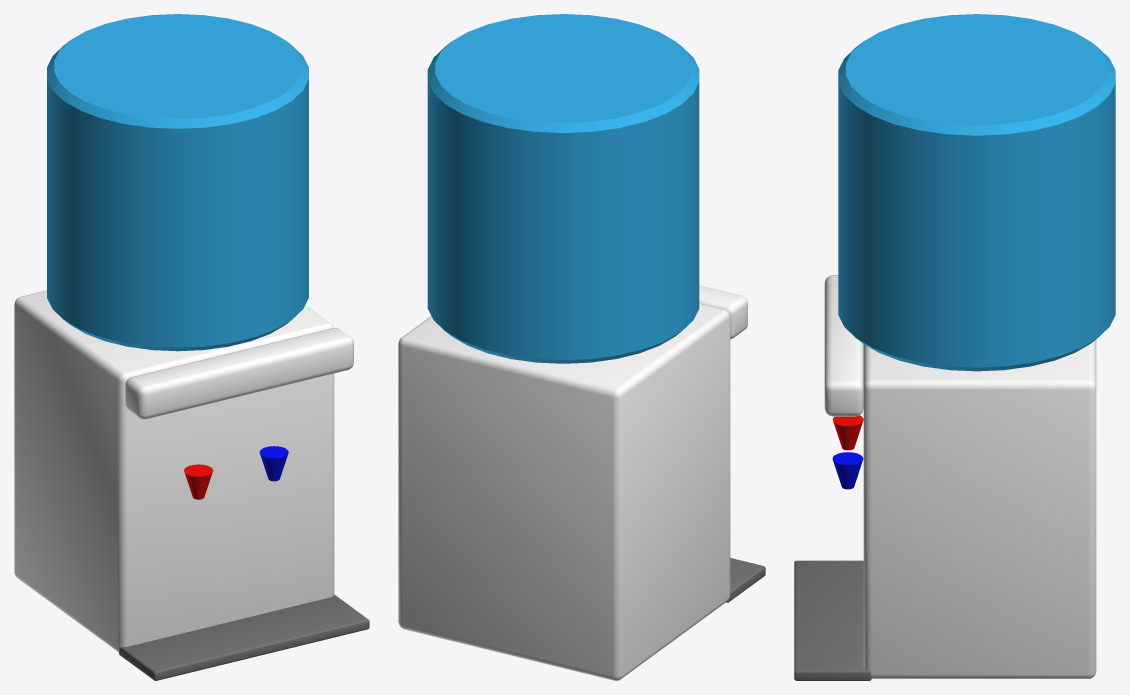
File: water fountain.FBX
3 views of the same model, side by side, from view 1: azimuth 30°, elevation 25°; view 2: azimuth 150°, elevation 25°; view 3: azimuth 270°, elevation 25° (orthographic). The views are drawn at different scales.
Parts seen in each view (by area): view 1: ChamferBox001, ChamferCyl001, ChamferBox003, ChamferBox002, Cone001, Cone002; view 2: ChamferBox001, ChamferCyl001, ChamferBox003, ChamferBox002; view 3: ChamferCyl001, ChamferBox001, ChamferBox002, ChamferBox003, Cone002, Cone001.
Boxes of the visible parts, x1,y1,x2,y2 form: ChamferBox001: [14, 290, 334, 652]; ChamferCyl001: [47, 14, 308, 351]; ChamferBox003: [125, 328, 353, 419]; ChamferBox002: [119, 594, 369, 680]; Cone001: [184, 464, 213, 499]; Cone002: [259, 446, 288, 481]; ChamferBox001: [398, 303, 730, 680]; ChamferCyl001: [427, 14, 699, 363]; ChamferBox003: [699, 285, 747, 339]; ChamferBox002: [726, 558, 765, 602]; ChamferCyl001: [838, 14, 1115, 371]; ChamferBox001: [863, 339, 1096, 678]; ChamferBox002: [794, 560, 871, 680]; ChamferBox003: [824, 275, 863, 416]; Cone002: [832, 452, 863, 489]; Cone001: [832, 415, 863, 450].
Size of the model in its own units: 360 by 793 by 415.
